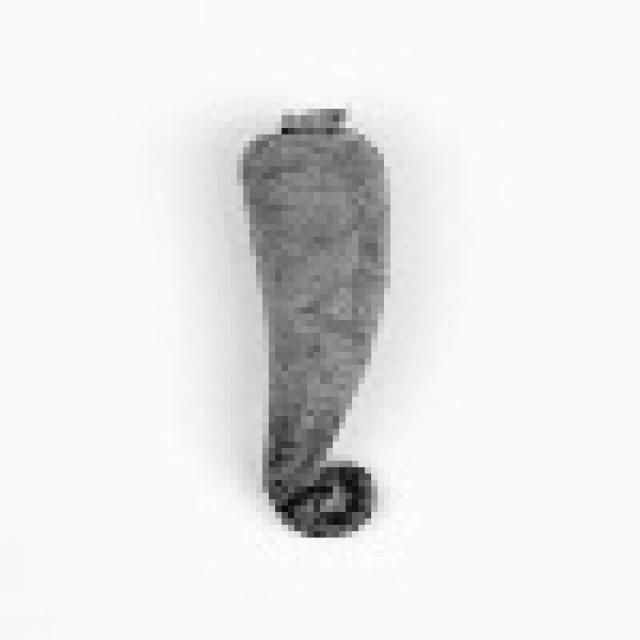Stale_Carrot: (235, 233, 395, 553)
